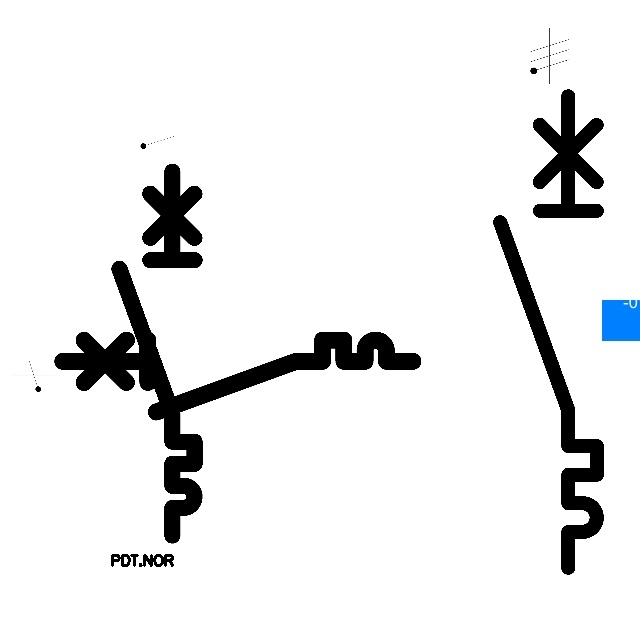interruptor_termomagnetico: (488, 84, 609, 580), (110, 162, 204, 545), (53, 331, 421, 421)
